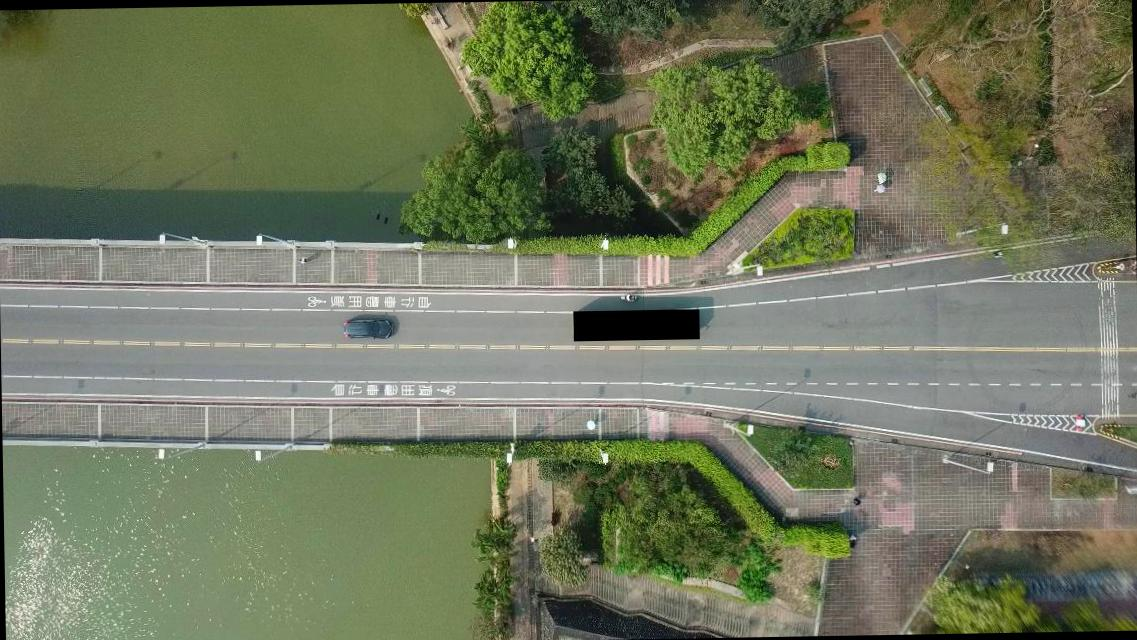vehicle: (343, 318, 393, 340)
